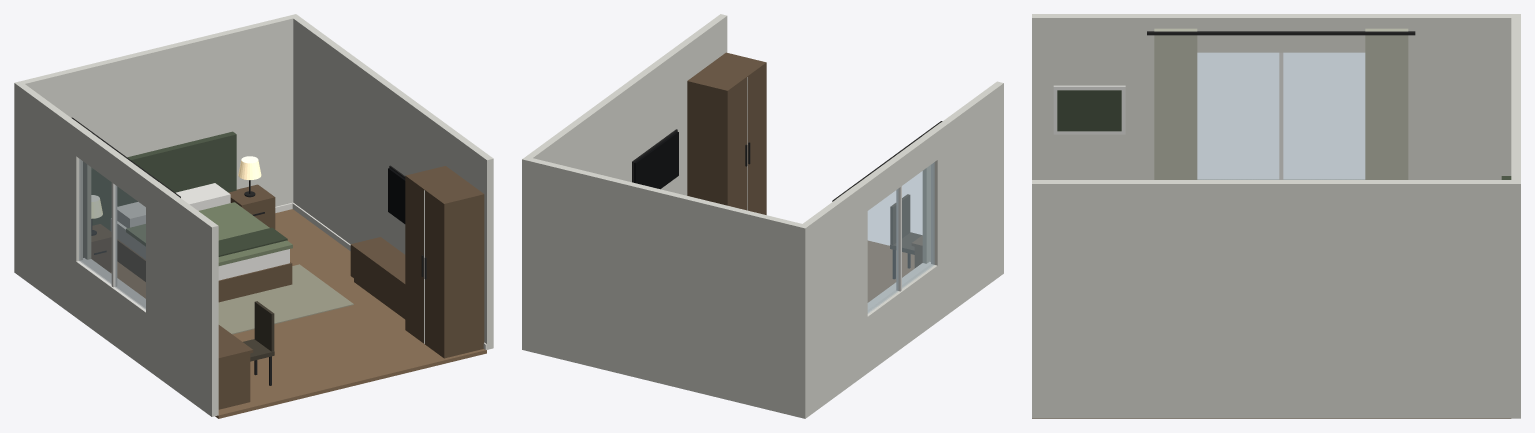
Rendered from room-6.glb.
3 renders of one model, left to right at view 1: azimuth 30°, elevation 25°; view 2: azimuth 150°, elevation 25°; view 3: azimuth 270°, elevation 25°, orthographic. The views are drawn at different scales.
Parts seen in each view (by area): view 1: wall, wood, floor, glass, headboard, rug, linen, blanket, window_frame, chair, runner, curtain (+4 smaller); view 2: wall, wood, glass, screen, floor, window_frame, chair, curtain, metal; view 3: wall, glass, curtain, runner, window_frame, metal, floor.
Boxes of the visible parts, left/top/right/bottom form: wall: left=14, top=14, right=493, bottom=416; wood: left=91, top=166, right=484, bottom=409; floor: left=111, top=209, right=486, bottom=418; glass: left=79, top=159, right=145, bottom=309; headboard: left=91, top=131, right=236, bottom=230; rug: left=218, top=264, right=353, bottom=334; linen: left=110, top=183, right=289, bottom=280; blanket: left=126, top=202, right=292, bottom=265; window_frame: left=77, top=182, right=145, bottom=311; chair: left=243, top=301, right=274, bottom=361; runner: left=218, top=227, right=287, bottom=256; curtain: left=77, top=122, right=175, bottom=259; wall: left=522, top=14, right=1003, bottom=418; wood: left=687, top=52, right=922, bottom=267; glass: left=867, top=162, right=934, bottom=313; screen: left=634, top=131, right=678, bottom=189; floor: left=867, top=240, right=914, bottom=302; window_frame: left=867, top=186, right=930, bottom=315; chair: left=890, top=194, right=921, bottom=254; curtain: left=837, top=123, right=939, bottom=263; metal: left=632, top=121, right=942, bottom=279; wall: left=1032, top=14, right=1520, bottom=418; glass: left=1197, top=52, right=1365, bottom=179; curtain: left=1154, top=28, right=1408, bottom=179; runner: left=1057, top=90, right=1121, bottom=131; window_frame: left=1053, top=52, right=1283, bottom=179; metal: left=1147, top=31, right=1415, bottom=35; floor: left=1032, top=418, right=1510, bottom=418.
Bounding box in the file's own units: 4.2 × 2.75 × 5.1.
